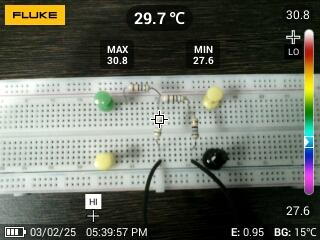resistor: (159, 93, 188, 105), (189, 115, 201, 141), (153, 112, 164, 139), (127, 83, 151, 94)
